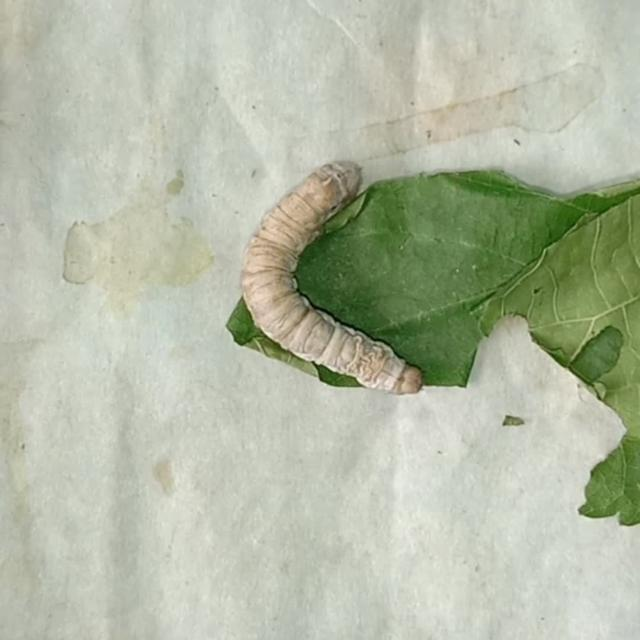Grasserie: (229, 148, 431, 416)
